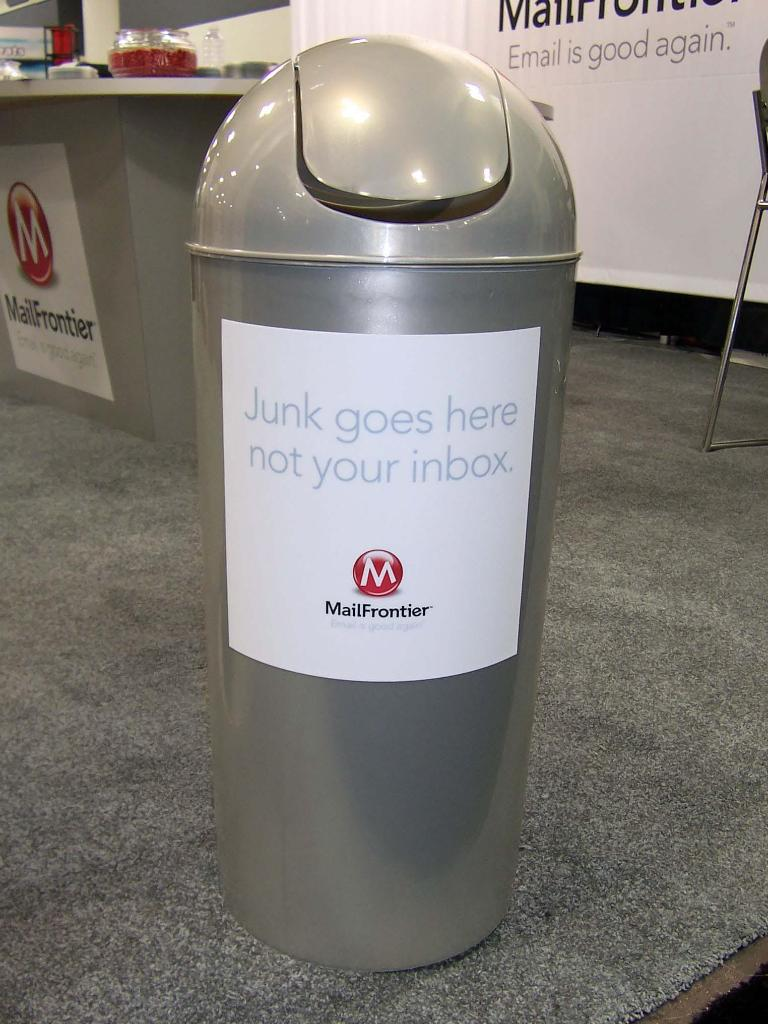dustbin: (169, 26, 571, 995)
